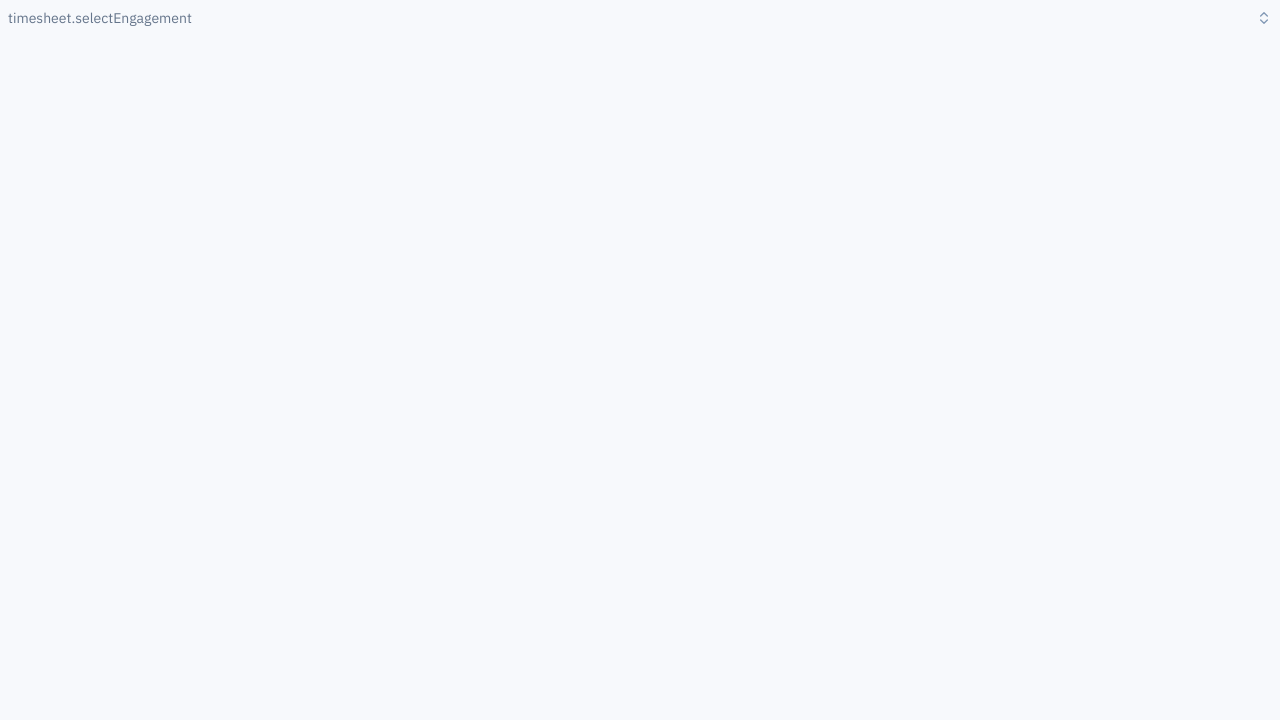
Test: TimesheetEngagementCombobox (BUG 0220-57) › reveals a search input when opened
The width and height of the screenshot is (1280, 720).
Click the dropdown.
click(100, 18)  # box x1=0 y1=0 x2=1279 y2=36
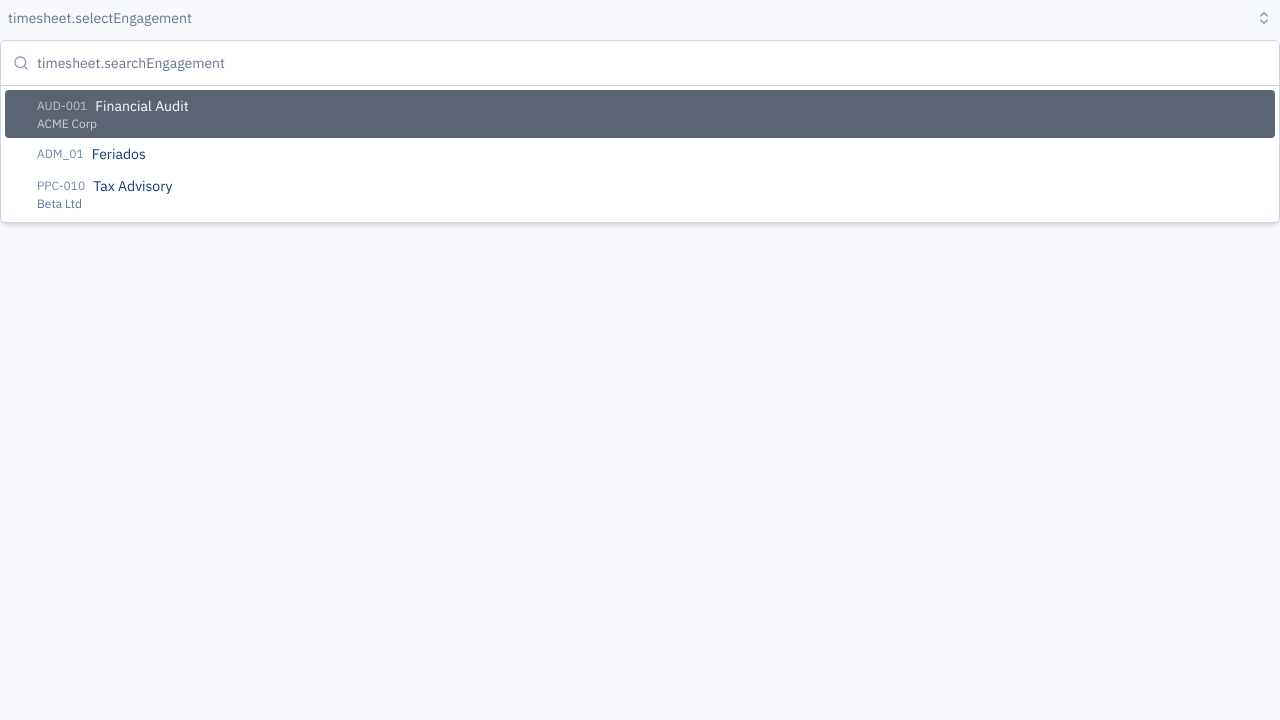
Expected: the dropdown with placeholder "timesheet.searchEngagement" is shown, x1=37 y1=41 x2=1267 y2=85
